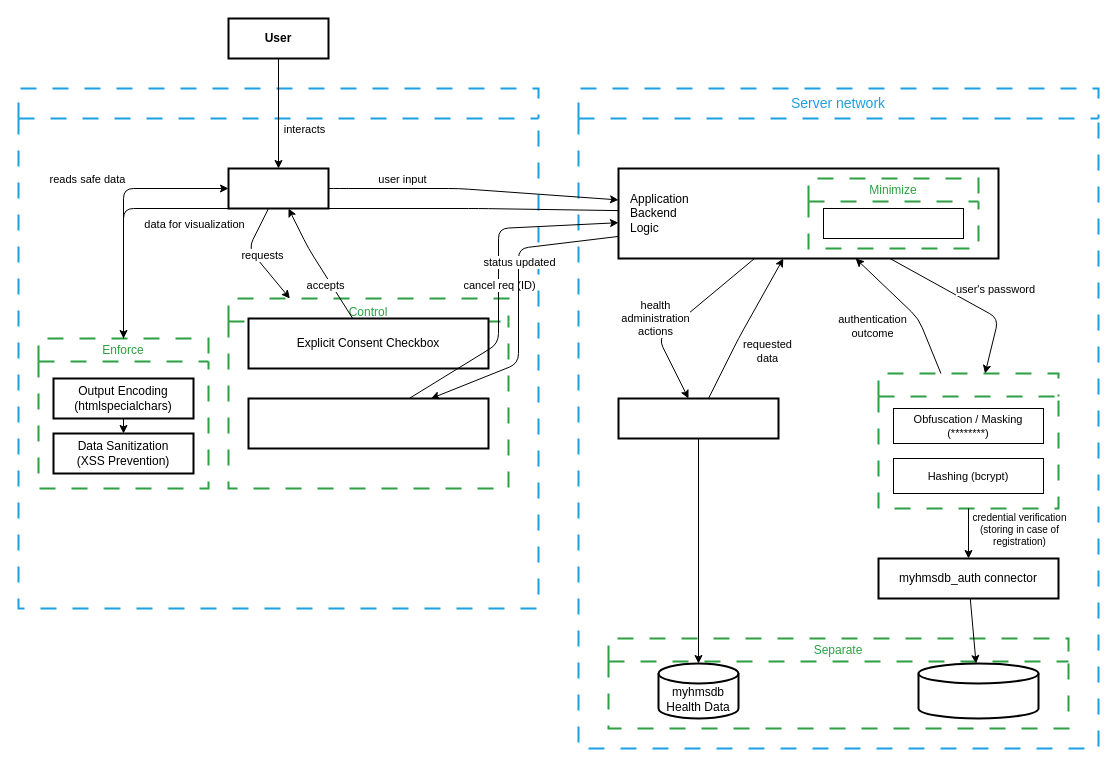
The diagram is 1116 pixels wide and 766 high, and some of its shapes have lost their labels. The box of each missing label's shape, as (x1, y1, x2, y2) in pixels:
Appointment Management (Retract: Cancel via userStatus=0): (247, 397, 489, 449)
Client network: (17, 87, 539, 609)
GUI (PHP Panels): (227, 167, 329, 209)
Hide: (877, 372, 1059, 509)
myhmsdb connector (mysqli): (617, 397, 779, 439)
myhmsdb_auth Authentication Data: (917, 662, 1039, 719)
Prepared Statements (Parametrized Queries): (822, 208, 964, 238)
